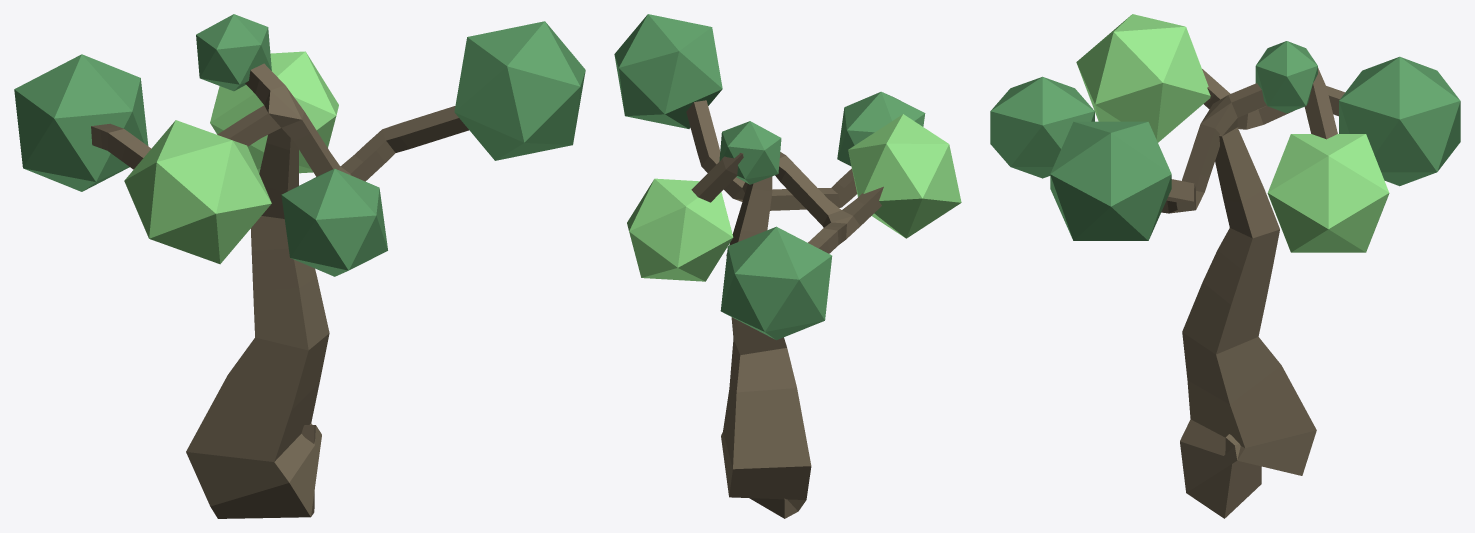
Rendered from Tree.fbx.
The picture shows the model from 3 angles, left to right: view 1: azimuth 30°, elevation 25°; view 2: azimuth 150°, elevation 25°; view 3: azimuth 270°, elevation 25°; orthographic projection. The views are drawn at different scales.
Visible parts, largest first — view 1: Cube, Icosphere.002, Icosphere.004, Icosphere.003, Icosphere, Icosphere.001, Icosphere.005; view 2: Cube, Icosphere.003, Icosphere.002, Icosphere.004, Icosphere.001, Icosphere.005, Icosphere; view 3: Cube, Icosphere.002, Icosphere.001, Icosphere.004, Icosphere.003, Icosphere, Icosphere.005.
Boxes of the visible parts, x1,y1,x2,y2 form: Cube: [91, 63, 468, 518]; Icosphere.002: [454, 21, 585, 160]; Icosphere.004: [124, 120, 271, 264]; Icosphere.003: [14, 54, 148, 191]; Icosphere: [281, 168, 387, 276]; Icosphere.001: [210, 51, 338, 173]; Icosphere.005: [196, 14, 271, 91]; Cube: [686, 100, 883, 518]; Icosphere.003: [720, 226, 832, 340]; Icosphere.002: [614, 14, 722, 128]; Icosphere.004: [848, 114, 961, 238]; Icosphere.001: [627, 178, 733, 281]; Icosphere.005: [719, 121, 781, 184]; Icosphere: [837, 91, 925, 166]; Cube: [1161, 68, 1344, 518]; Icosphere.002: [1050, 121, 1171, 240]; Icosphere.001: [1267, 134, 1389, 252]; Icosphere.004: [1076, 14, 1210, 142]; Icosphere.003: [1339, 56, 1460, 186]; Icosphere: [990, 76, 1094, 178]; Icosphere.005: [1255, 41, 1317, 113].
Bounding box in the file's own units: 651 × 716 × 658.
